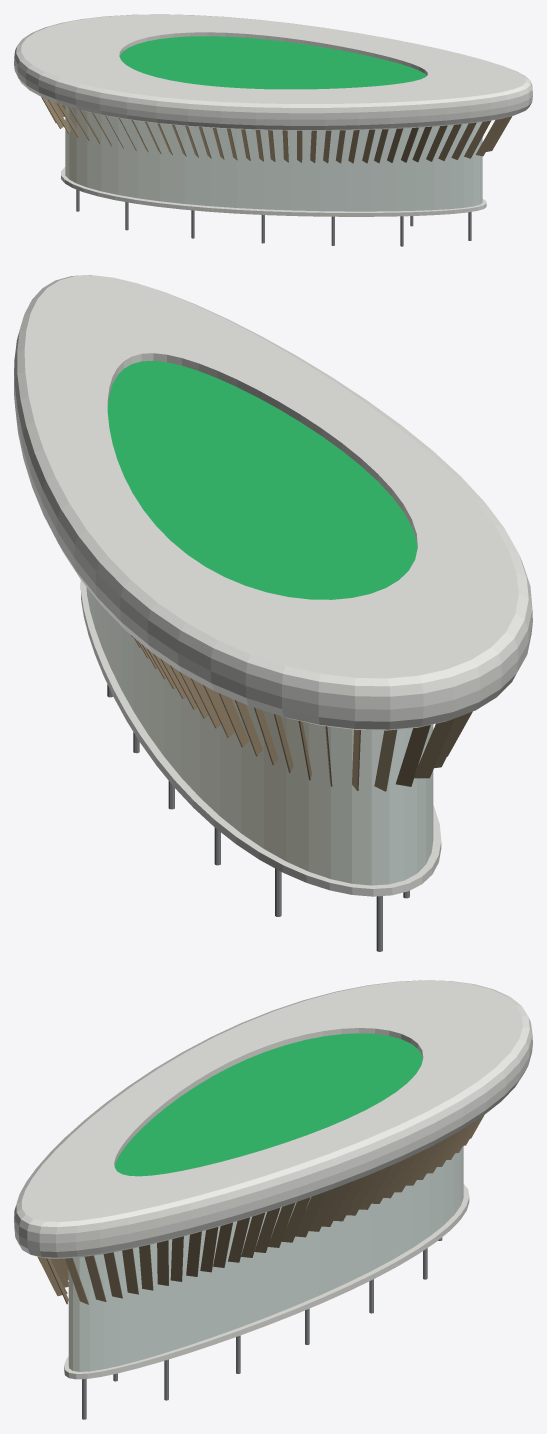
File: qiuhonggu_pavilion.glb
3 views of the same model, one above another, from view 1: azimuth 30°, elevation 25°; view 2: azimuth 150°, elevation 25°; view 3: azimuth 270°, elevation 25° (orthographic). The views are drawn at different scales.
Parts seen in each view (by area): view 1: qiuhonggu_pavilion_mesh; view 2: qiuhonggu_pavilion_mesh; view 3: qiuhonggu_pavilion_mesh.
Boxes of the visible parts, x1,y1,x2,y2 form: qiuhonggu_pavilion_mesh: (14,14,532,246); qiuhonggu_pavilion_mesh: (14,275,532,951); qiuhonggu_pavilion_mesh: (14,980,532,1419).
Size of the model in its own units: 29.9 by 12.6 by 26.3.
